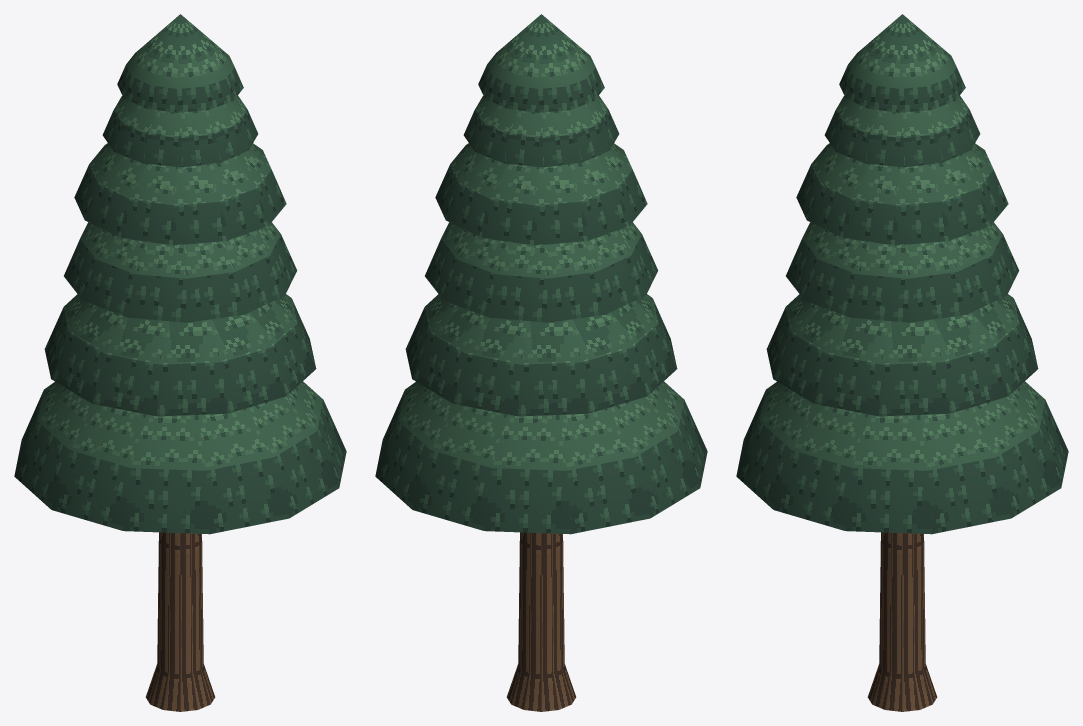
File: pine_4.glb
3 views of the same model, side by side, from view 1: azimuth 30°, elevation 25°; view 2: azimuth 150°, elevation 25°; view 3: azimuth 270°, elevation 25° (orthographic).
Parts seen in each view (by area): view 1: pine_5; view 2: pine_5; view 3: pine_5.
Part boxes in pixels (left/top/right/bottom): pine_5: left=14, top=14, right=346, bottom=711; pine_5: left=375, top=14, right=707, bottom=711; pine_5: left=736, top=14, right=1068, bottom=711.
Bounding box in the file's own units: 2.23 × 5.06 × 2.23.
Materials: 3 (3 with a texture image).
